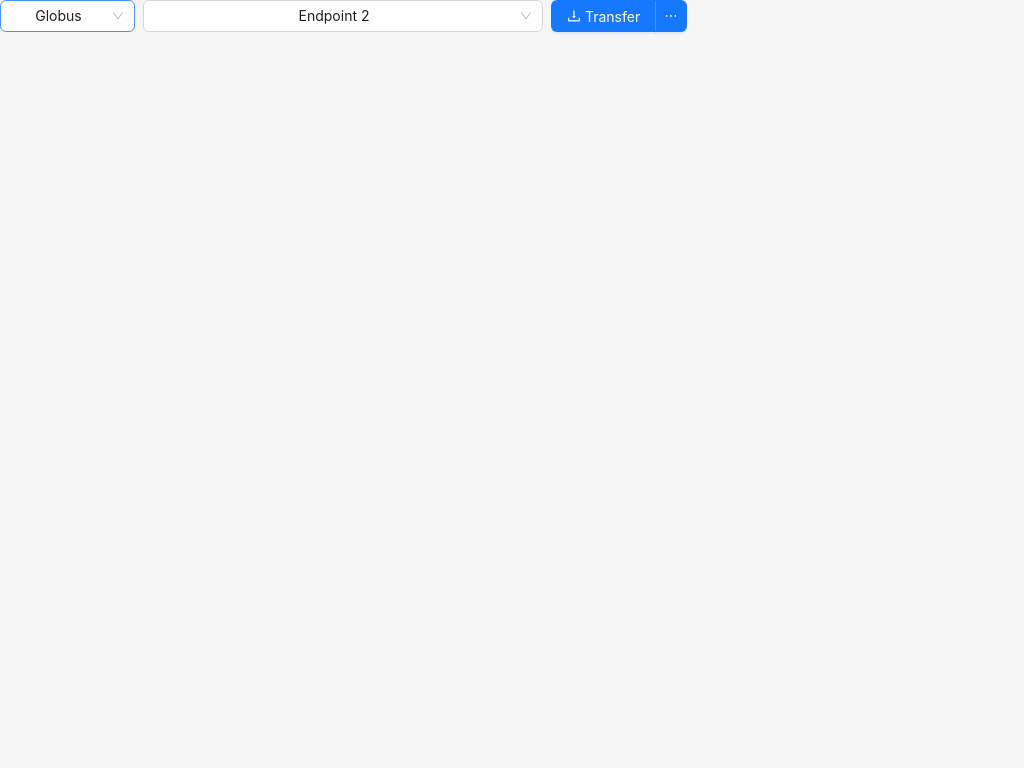
Test: DatasetDownload form tests › alerts when no items are transferable via Globus
Expected: the element with test id "downloadDatasetTransferBtn" is shown, [567,8,640,24]
Click the button with test id "downloadDatasetTransferBtn" at (604,16), box [551,0,656,32]
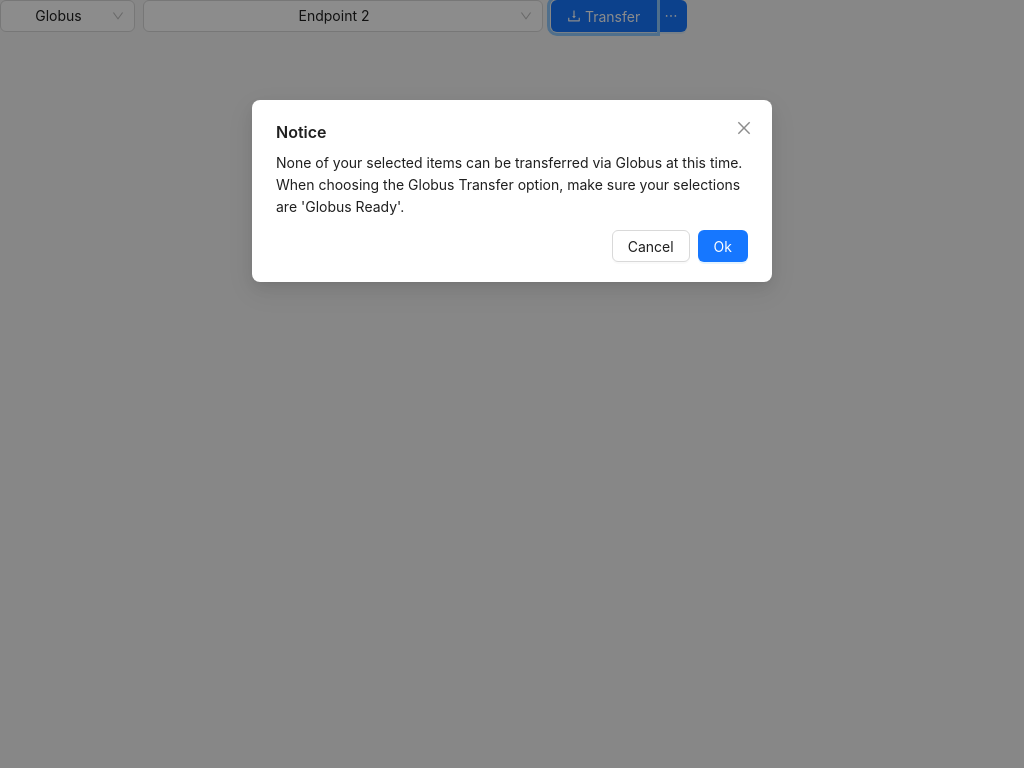
Expected: the text "None of your selected items can be transferred via Globus at this time." is shown, [276,154,742,215]
